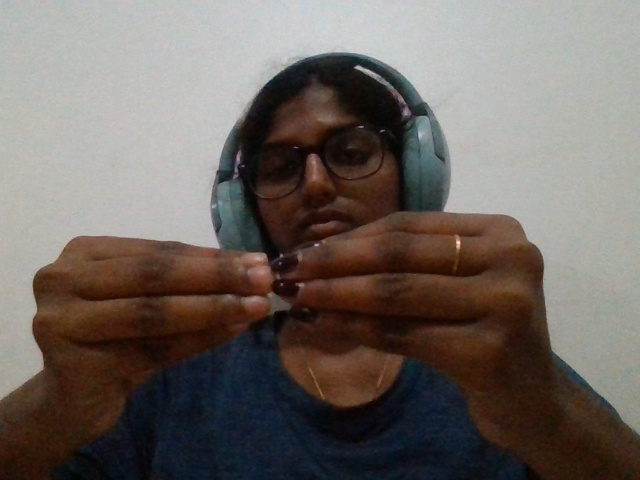More: (7, 210, 582, 461)
